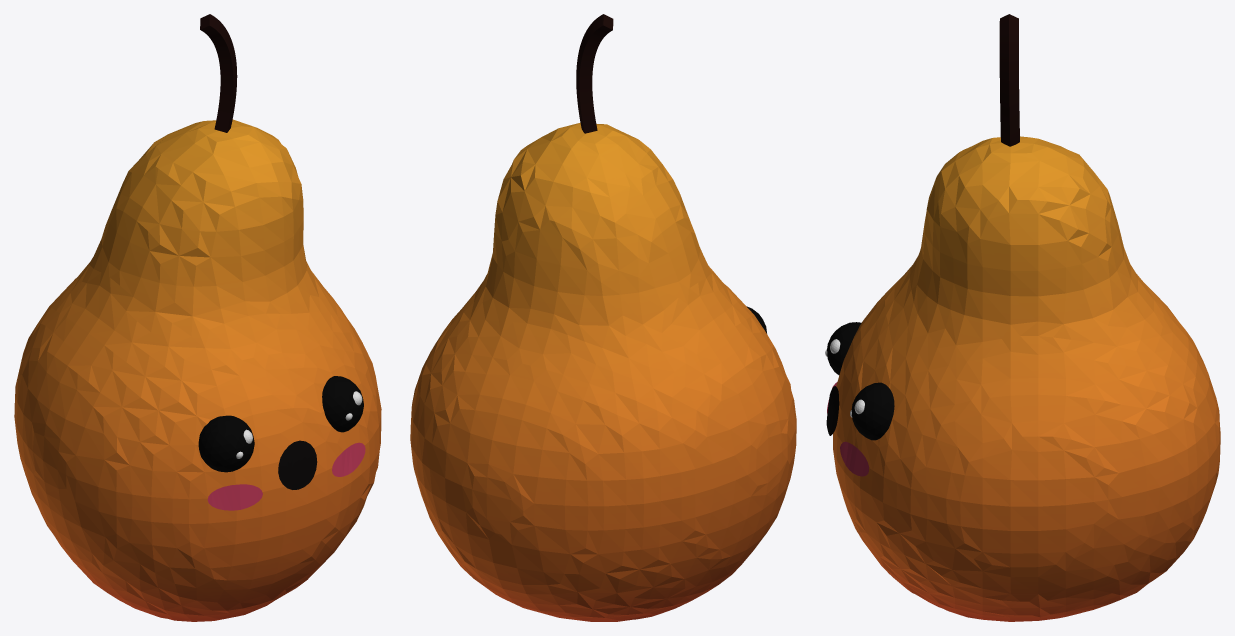
The model's file is pear3.fbx.
The picture shows the model from 3 angles, left to right: view 1: azimuth 30°, elevation 25°; view 2: azimuth 150°, elevation 25°; view 3: azimuth 270°, elevation 25°; orthographic projection.
Visible parts, largest first — view 1: file1; view 2: file1; view 3: file1.
Part boxes in pixels (bbox=[...]): file1: bbox=[14, 14, 381, 621]; file1: bbox=[410, 14, 796, 621]; file1: bbox=[825, 14, 1220, 621].
Bounding box in the file's own units: 178 × 309 × 185.
